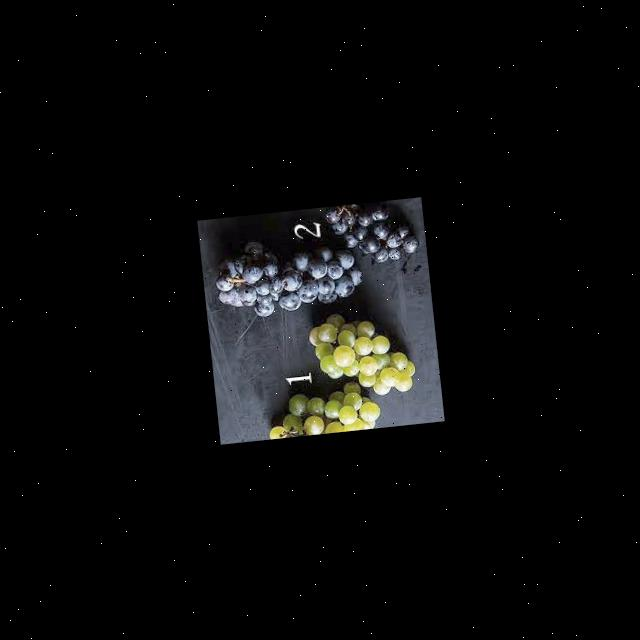grape: (306, 306, 416, 402)
